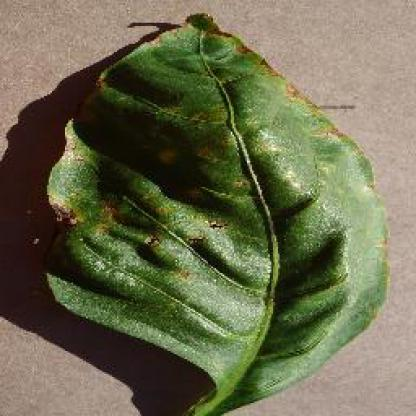bad leaf: (33, 131, 253, 266), (181, 28, 315, 133)
